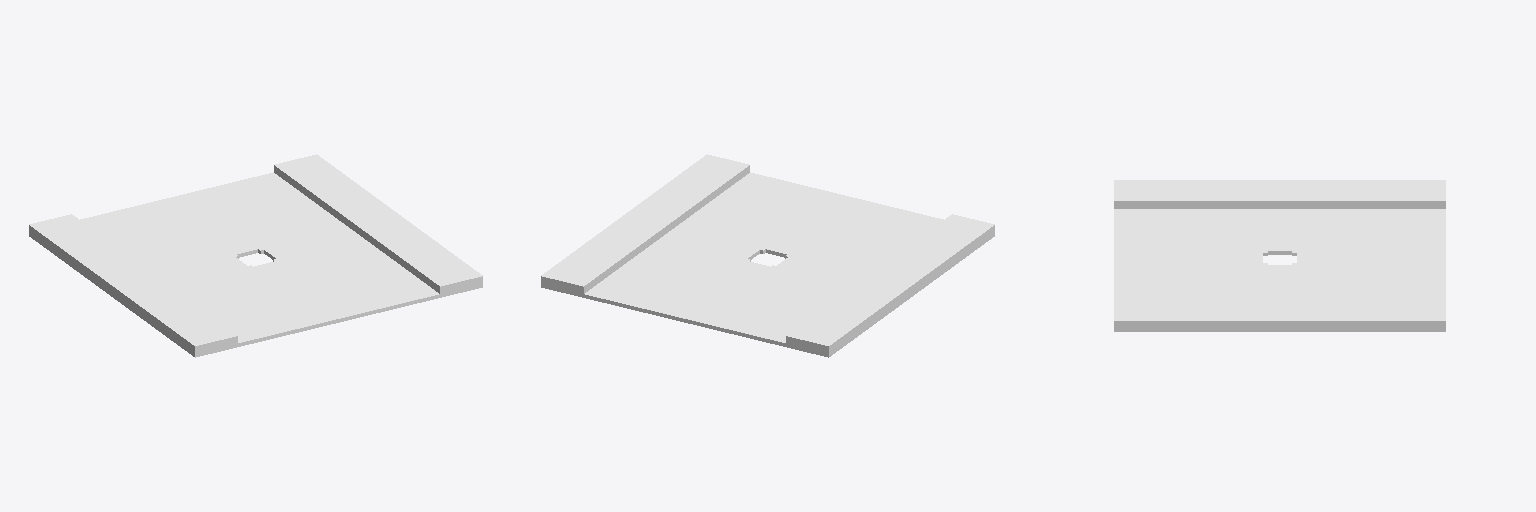
The model's file is RoadWithSewerHole.obj.
3 views of the same model, side by side, from view 1: azimuth 30°, elevation 25°; view 2: azimuth 150°, elevation 25°; view 3: azimuth 270°, elevation 25° (orthographic).
Parts seen in each view (by area): view 1: RoadWithSewerHole; view 2: RoadWithSewerHole; view 3: RoadWithSewerHole.
Boxes of the visible parts, x1,y1,x2,y2 form: RoadWithSewerHole: [29, 154, 482, 357]; RoadWithSewerHole: [541, 154, 994, 357]; RoadWithSewerHole: [1114, 180, 1445, 331].
Size of the model in its own units: 80 by 3 by 80.